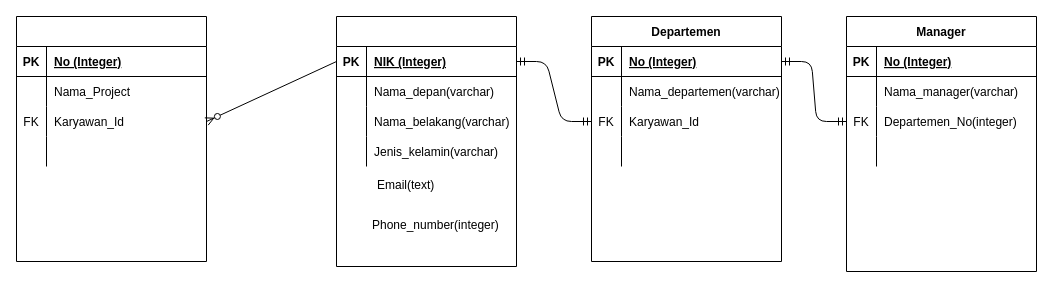
Some shapes in this 1053 by 288 pixel diagram are drawn without their labels. Here are the shapes that lost their labels. From the top down, the box of each, then its label:
(16, 16, 206, 262): Projek_karyawan
(336, 16, 516, 266): Karyawan
